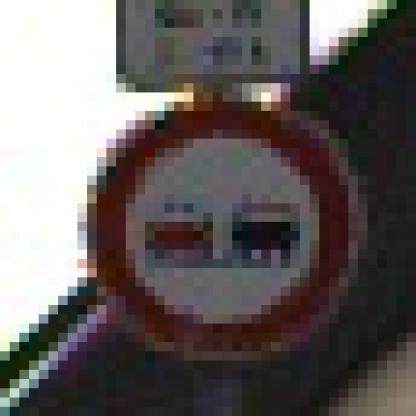No Overtaking: (49, 56, 369, 371)
